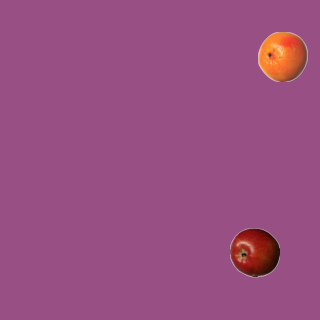Apple Braeburn: (229, 227, 279, 277)
Grapefruit Pink: (257, 31, 307, 81)
